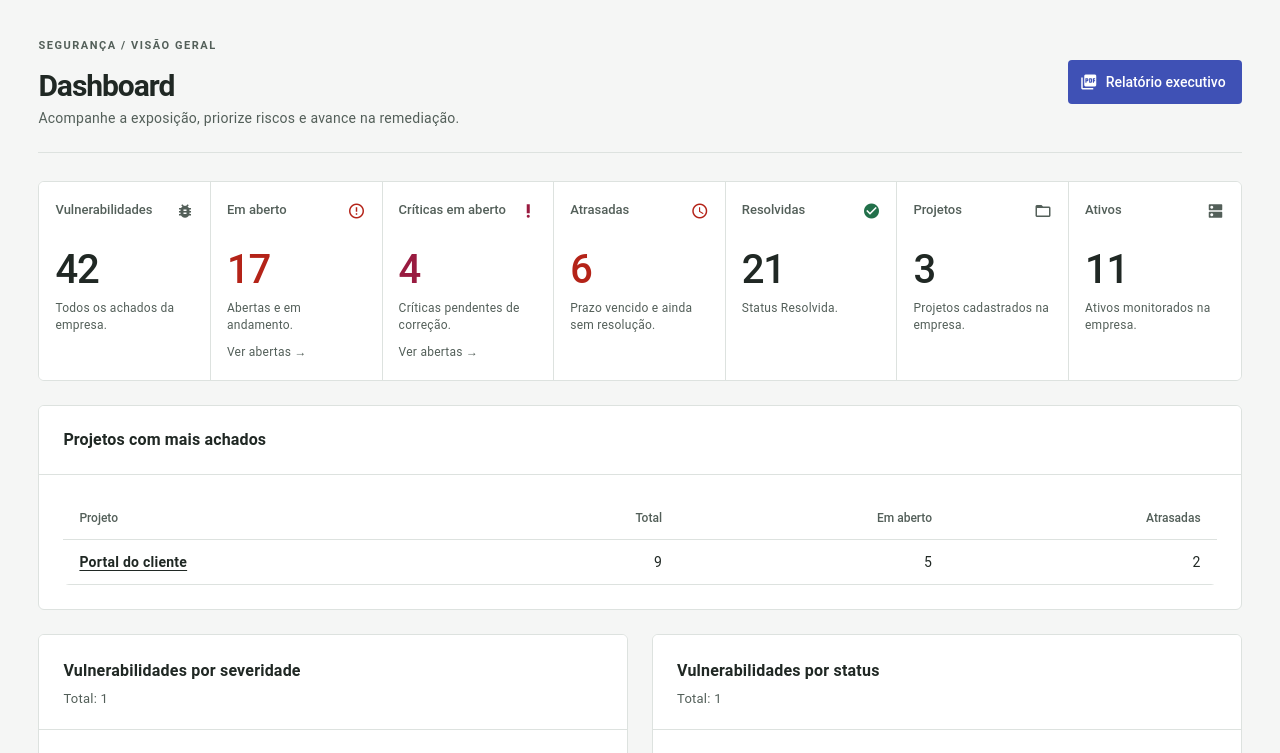
Scenario: DashboardPageComponent › mostra a falha do relatório sem apagar painel algum
Click the button with test id "report-export": coordinates (1155, 82) [1068,60,1242,104]
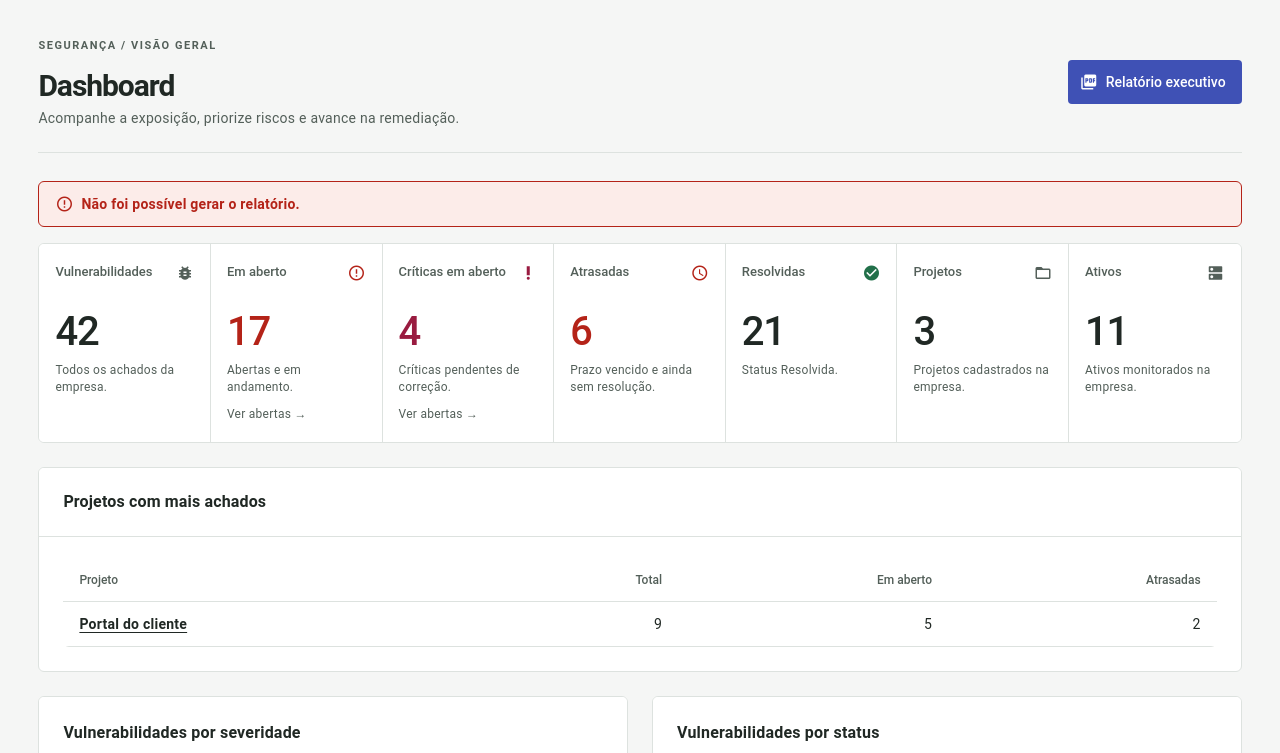
Now the text "Não foi possível gerar o relatório." is shown, box [81,194,300,214]
